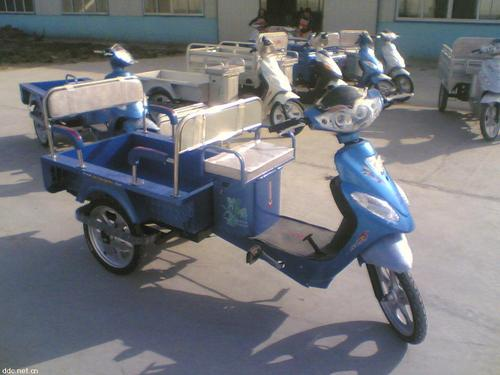empty: (36, 61, 438, 342)
